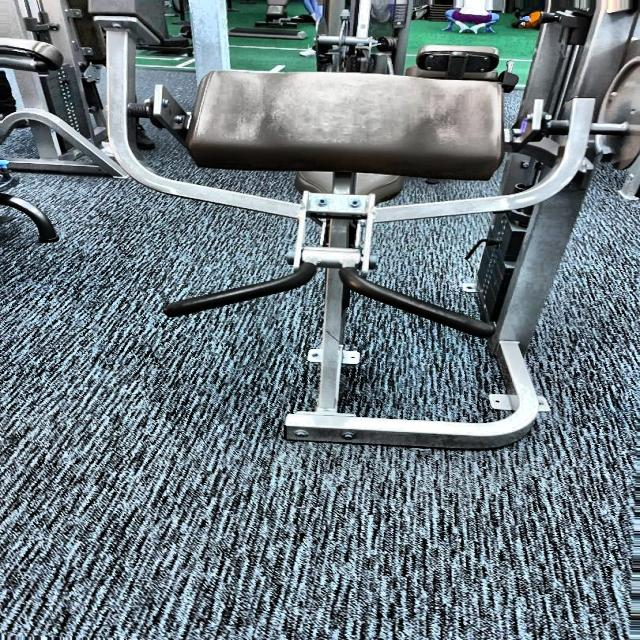bicep_curl_machine: (82, 29, 562, 462)
